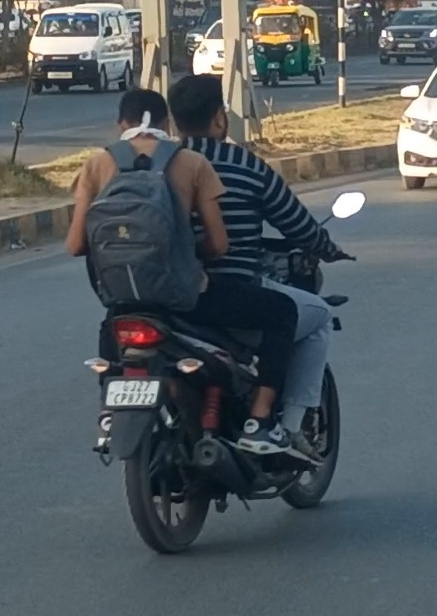BikeWithRider: (56, 63, 376, 568)
NoHelmet: (162, 72, 250, 144), (106, 87, 175, 147)
